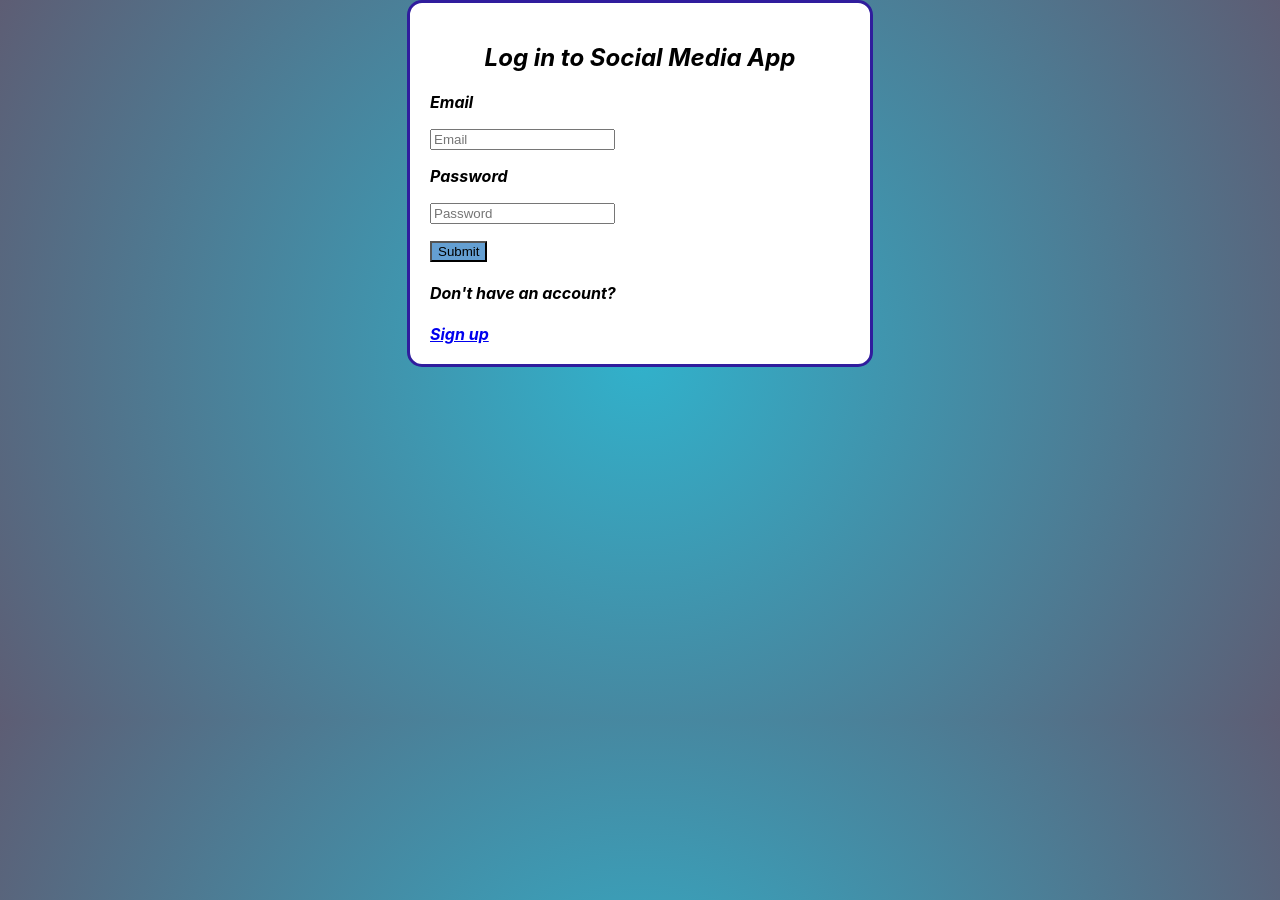
Test: Test for LogIn Component › Email Format check
The width and height of the screenshot is (1280, 900).
Type "test1" into the field with placeholder "Email" at (522, 139), box [430, 129, 615, 150]
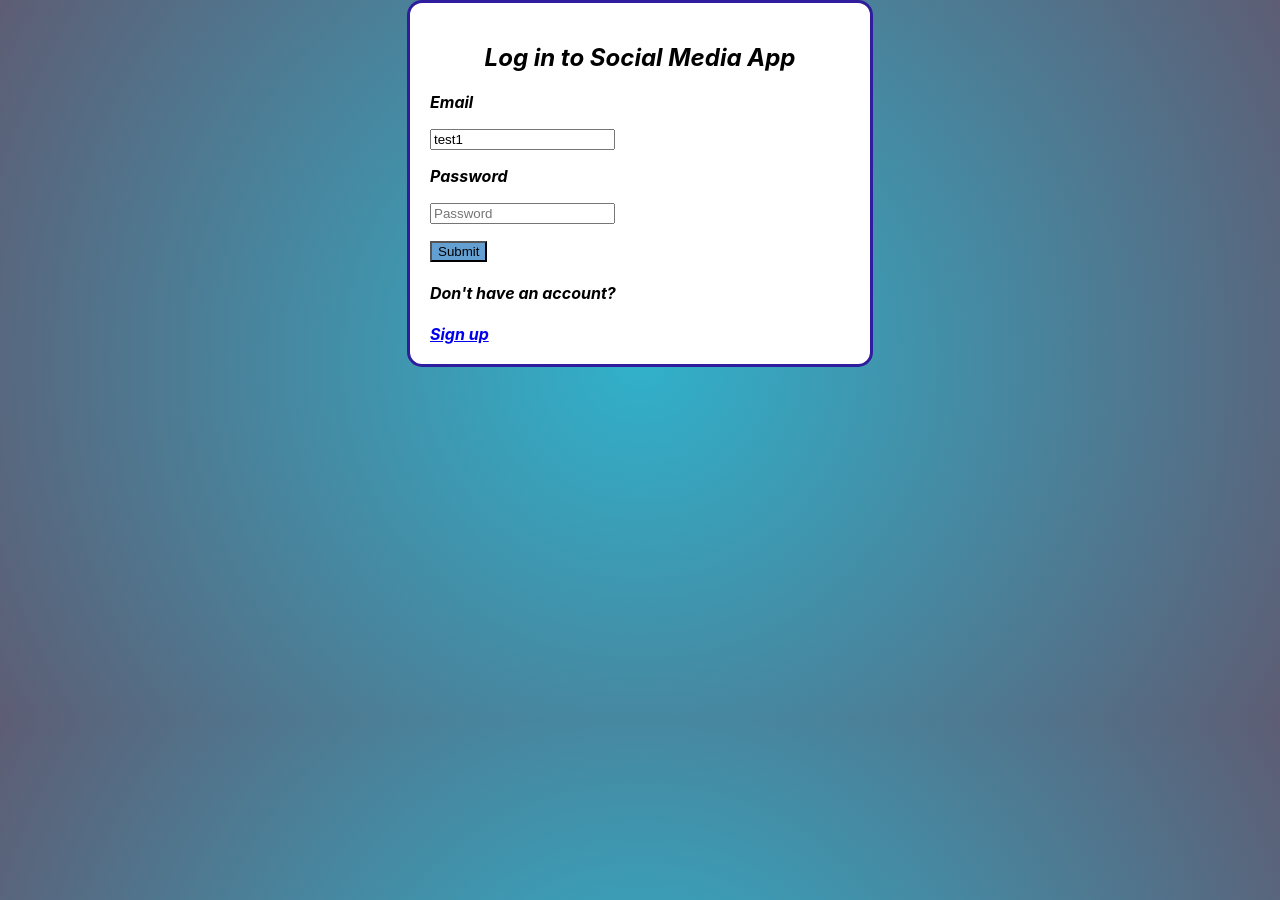
Click the button at (459, 251), box [430, 241, 488, 262]
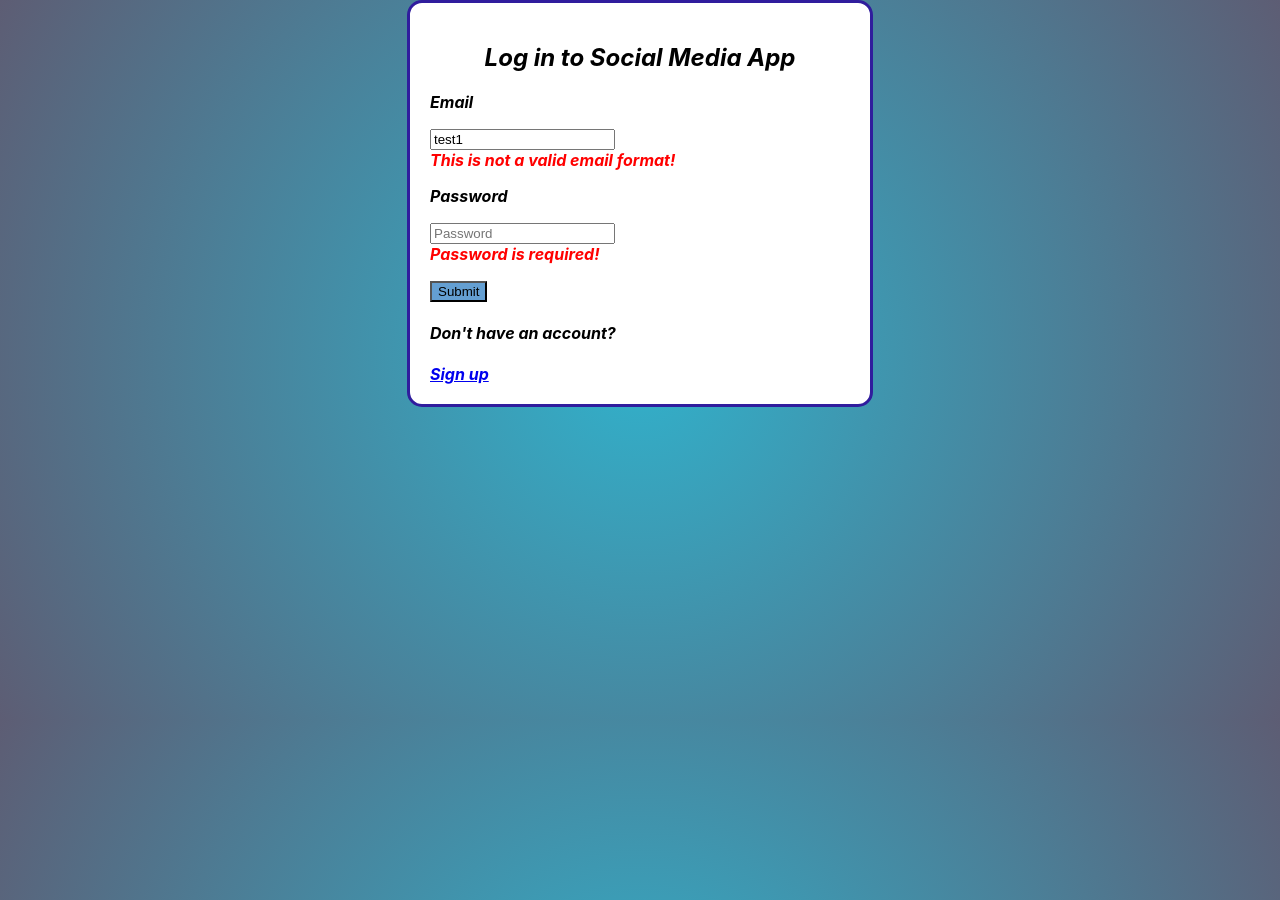
Expected: the text "This is not a valid email format!" is shown, [430, 150, 675, 170]
